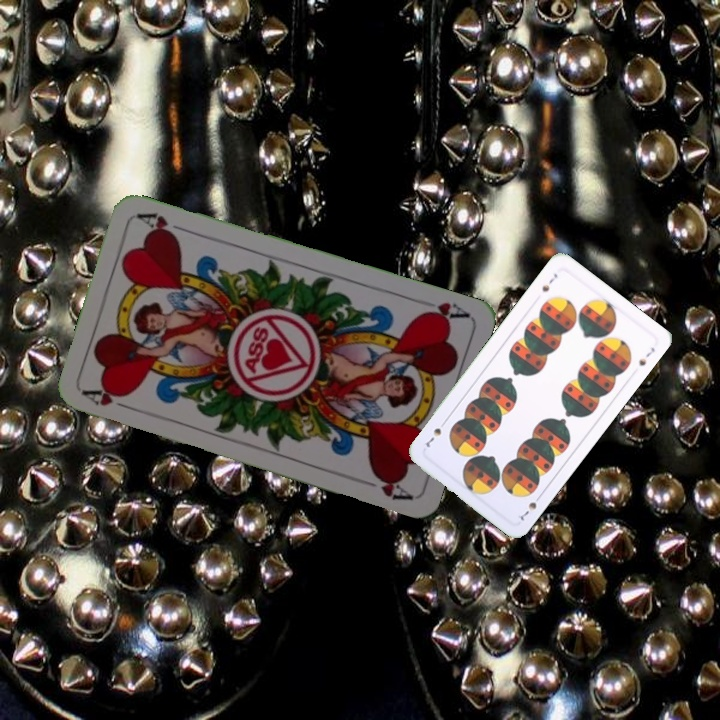HA: (80, 385, 138, 414), (415, 298, 471, 326)
S7: (516, 490, 545, 523), (538, 269, 560, 295)
